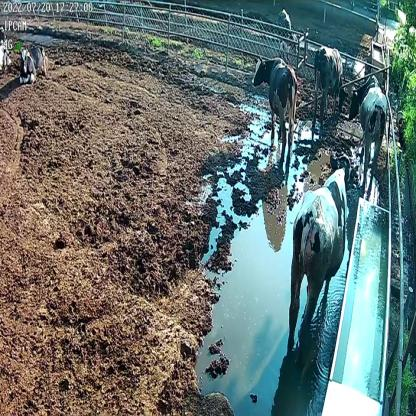cow: (288, 148, 360, 349), (250, 54, 298, 168), (345, 74, 390, 195), (311, 44, 348, 133), (17, 40, 50, 82)
